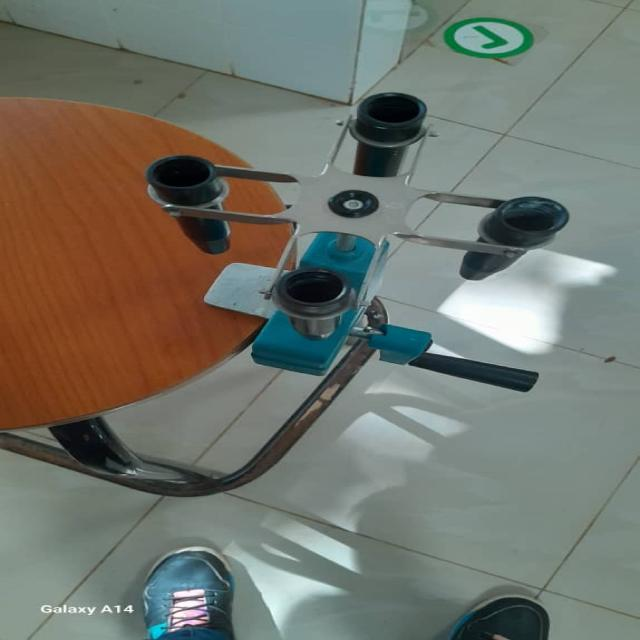Centrifuge: (147, 76, 606, 391)
